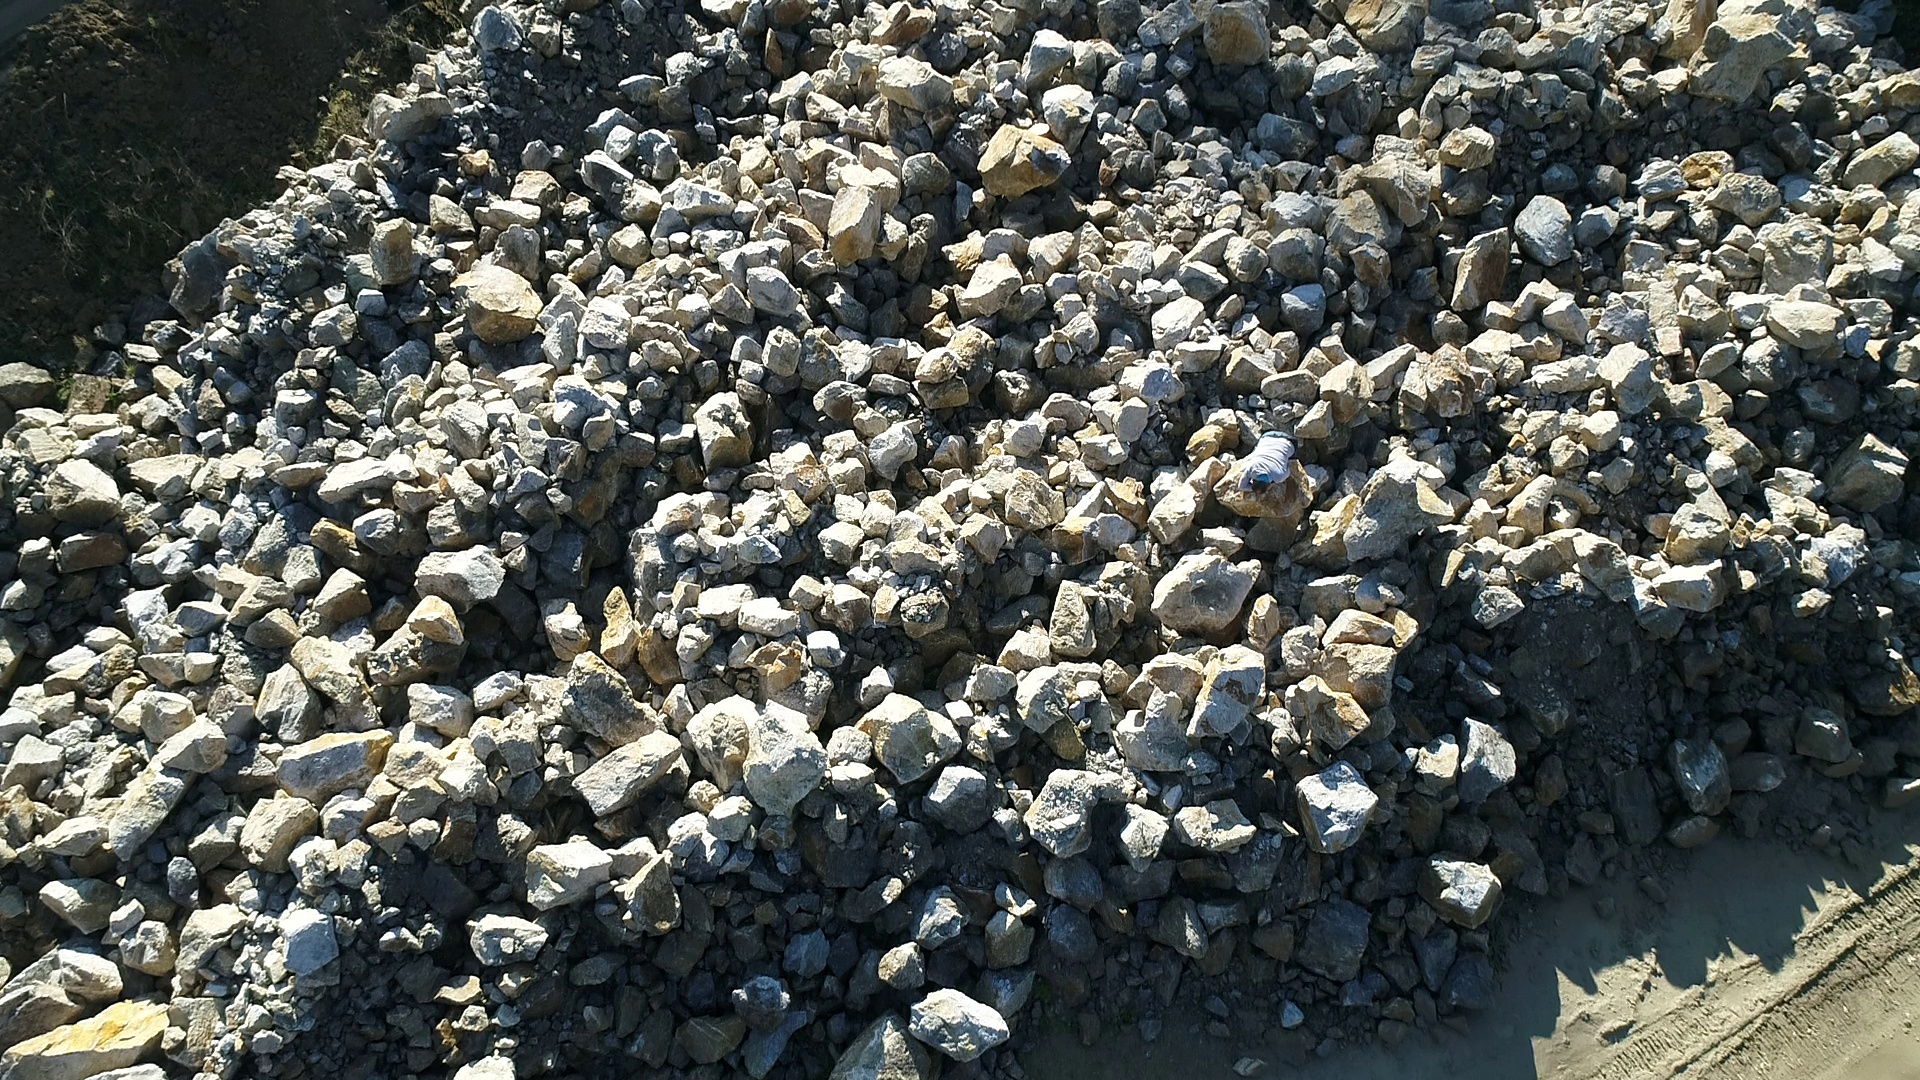person: (1236, 429, 1301, 501)
